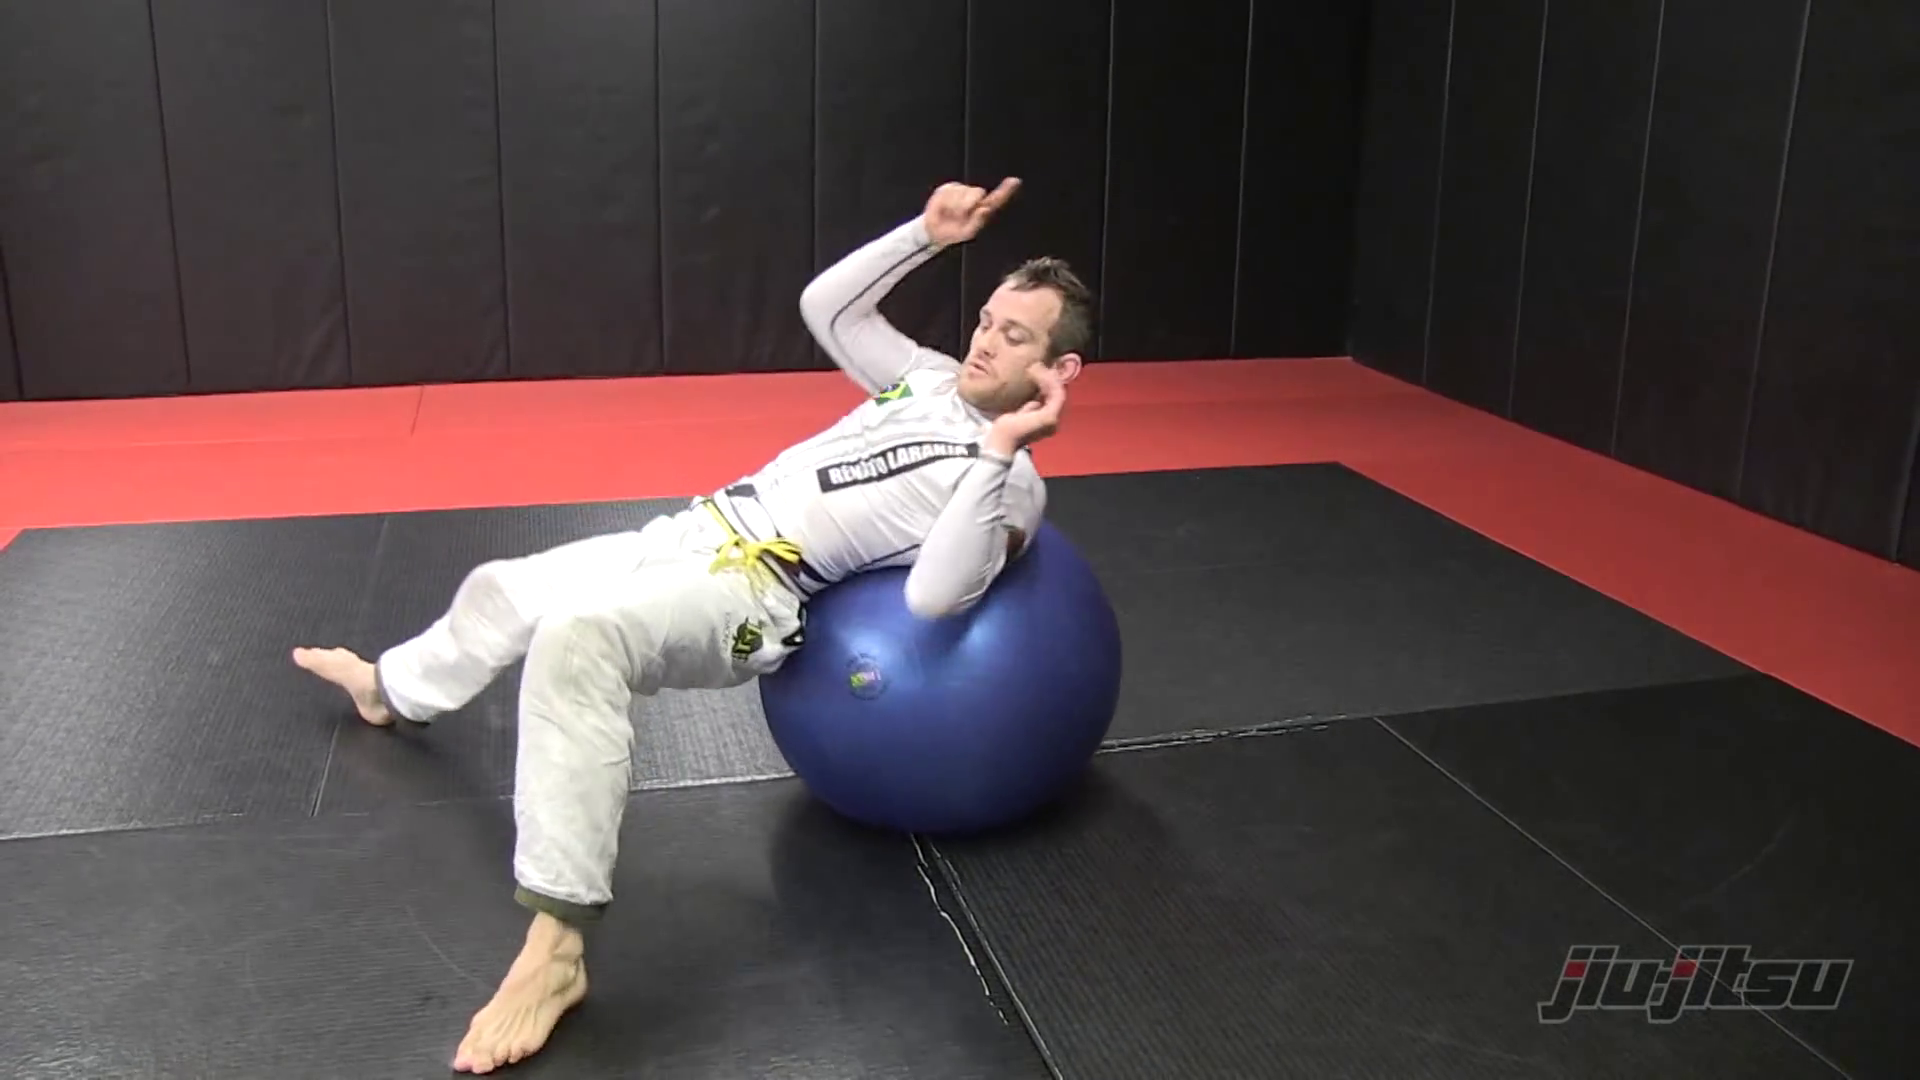yogaball: (733, 473, 1138, 832)
